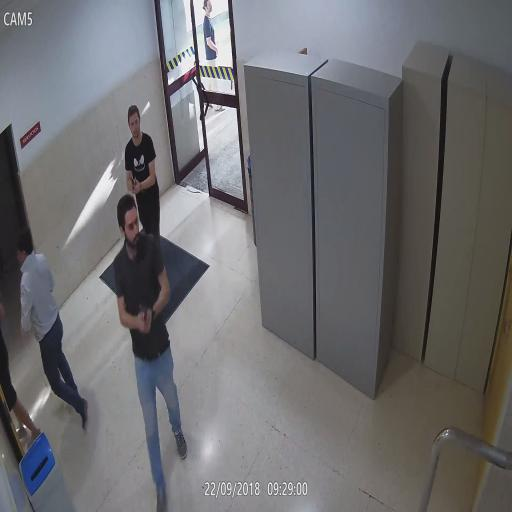Handgun: (134, 300, 154, 330), (127, 176, 140, 194)
